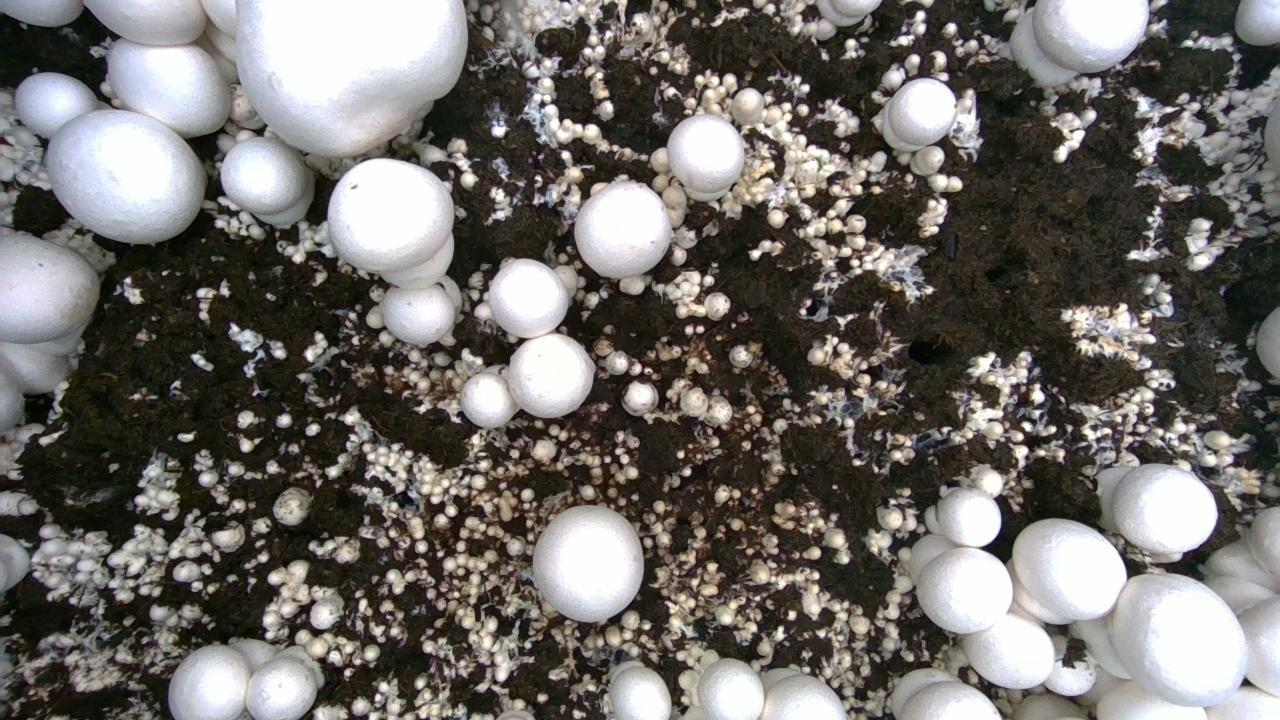WB: (236, 0, 467, 156), (45, 109, 205, 243), (1110, 574, 1247, 706), (328, 158, 453, 272), (533, 505, 643, 621), (108, 38, 230, 137), (1013, 518, 1126, 620), (0, 232, 99, 342), (1111, 464, 1217, 553), (574, 181, 671, 278), (1033, 0, 1148, 72), (916, 547, 1012, 633), (507, 333, 595, 417), (962, 614, 1054, 688), (219, 136, 306, 212), (667, 114, 743, 200), (488, 258, 568, 338), (167, 646, 250, 720), (15, 72, 103, 137), (84, 0, 205, 45), (245, 655, 315, 720), (888, 78, 955, 145), (382, 284, 454, 345), (1096, 680, 1206, 719), (1238, 595, 1279, 696), (697, 658, 763, 719), (760, 674, 846, 719), (899, 681, 1000, 719), (936, 488, 1000, 547), (460, 372, 520, 428), (610, 666, 671, 719)
